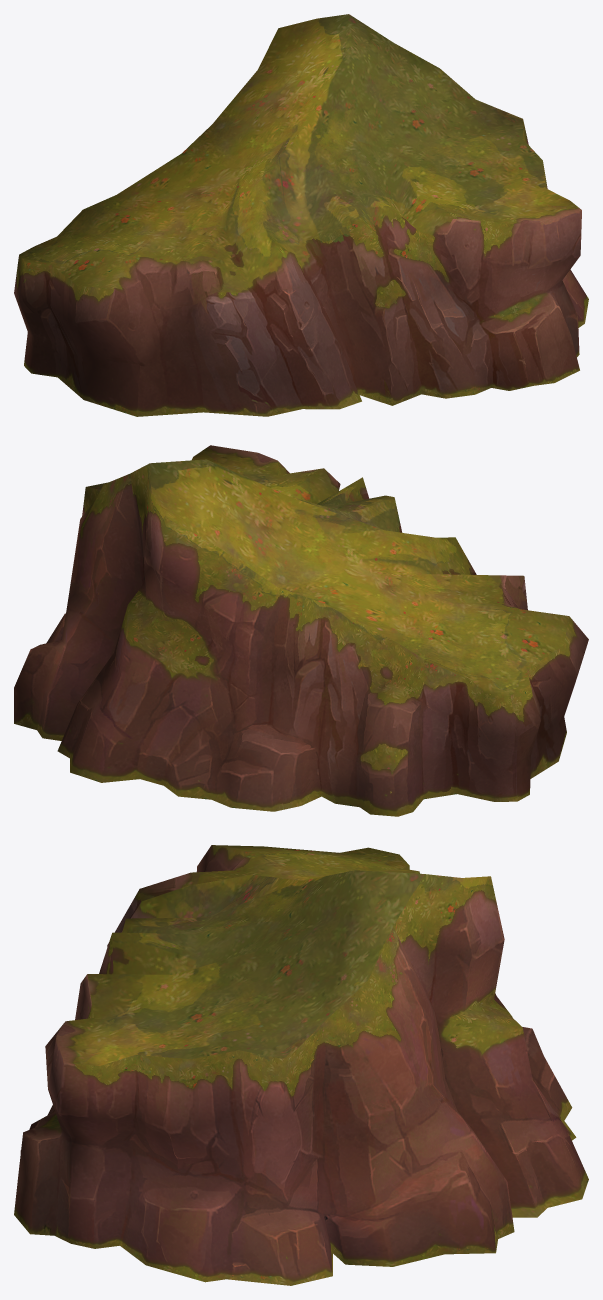
The model's file is shanshi_01.FBX.
3 views of the same model, one above another, from view 1: azimuth 30°, elevation 25°; view 2: azimuth 150°, elevation 25°; view 3: azimuth 270°, elevation 25° (orthographic). The views are drawn at different scales.
Parts seen in each view (by area): view 1: shanshi_01; view 2: shanshi_01; view 3: shanshi_01.
Boxes of the visible parts, left/top/right/bottom form: shanshi_01: left=14, top=14, right=588, bottom=416; shanshi_01: left=14, top=445, right=588, bottom=816; shanshi_01: left=14, top=845, right=588, bottom=1285.
Size of the model in its own units: 21.47 by 10.3 by 16.93.
Materials: 1 (1 with a texture image).
